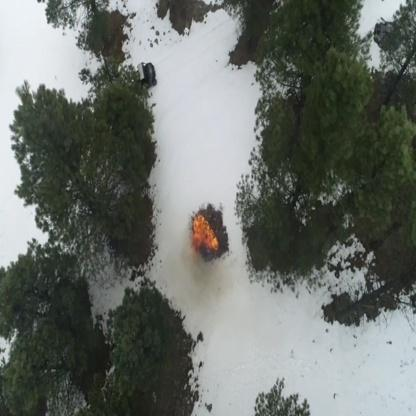Fire: (190, 212, 219, 257)
